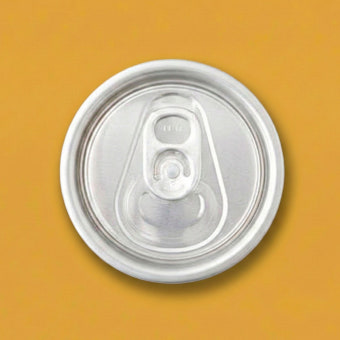paper: (53, 53, 294, 291)
